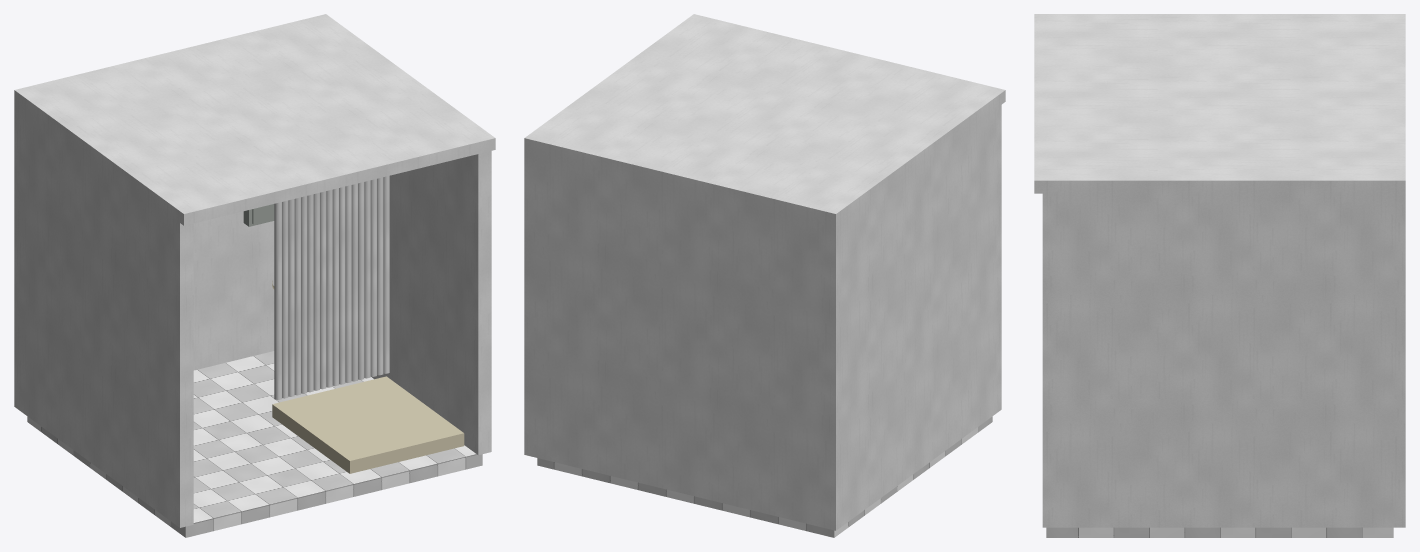
The model's file is SM_Town_Motel_Bathroom.glb.
3 renders of one model, left to right at view 1: azimuth 30°, elevation 25°; view 2: azimuth 150°, elevation 25°; view 3: azimuth 270°, elevation 25°, orthographic. The views are drawn at different scales.
Parts seen in each view (by area): view 1: SM_Town_Motel_Bathroom; view 2: SM_Town_Motel_Bathroom; view 3: SM_Town_Motel_Bathroom.
Part boxes in pixels (<box>): SM_Town_Motel_Bathroom: <box>14,14,495,537</box>; SM_Town_Motel_Bathroom: <box>524,14,1005,537</box>; SM_Town_Motel_Bathroom: <box>1034,14,1405,537</box>.
Size of the model in its own units: 2.78 by 2.81 by 2.62.
6 materials, 4 textured.
